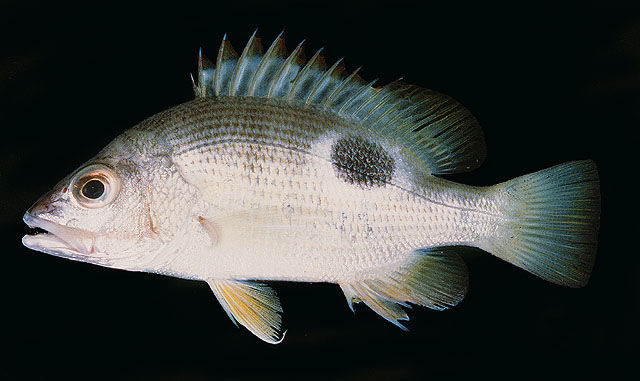fish: (21, 27, 602, 346)
